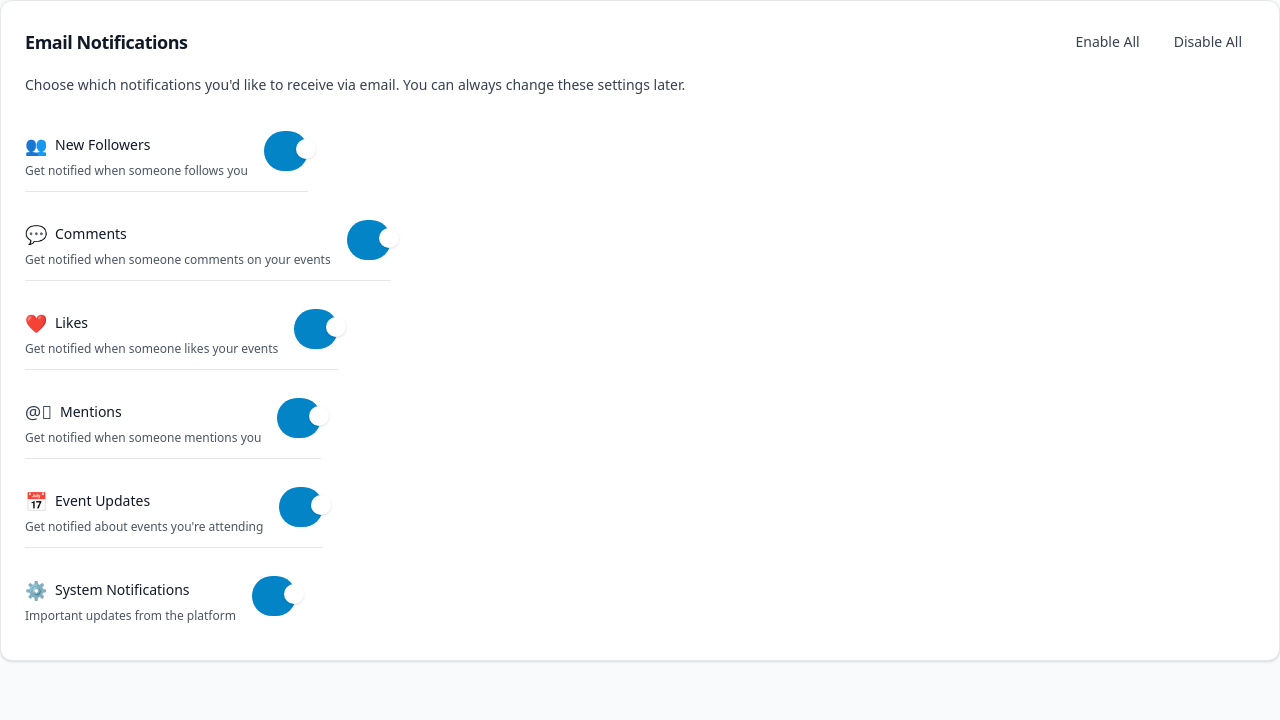
Test: NotificationSettings Component › Actions › should disable all notifications when Disable All clicked
This screenshot has width=1280, height=720.
Click the button "Disable All" at point(1208, 42), box [1161,25,1255,59]
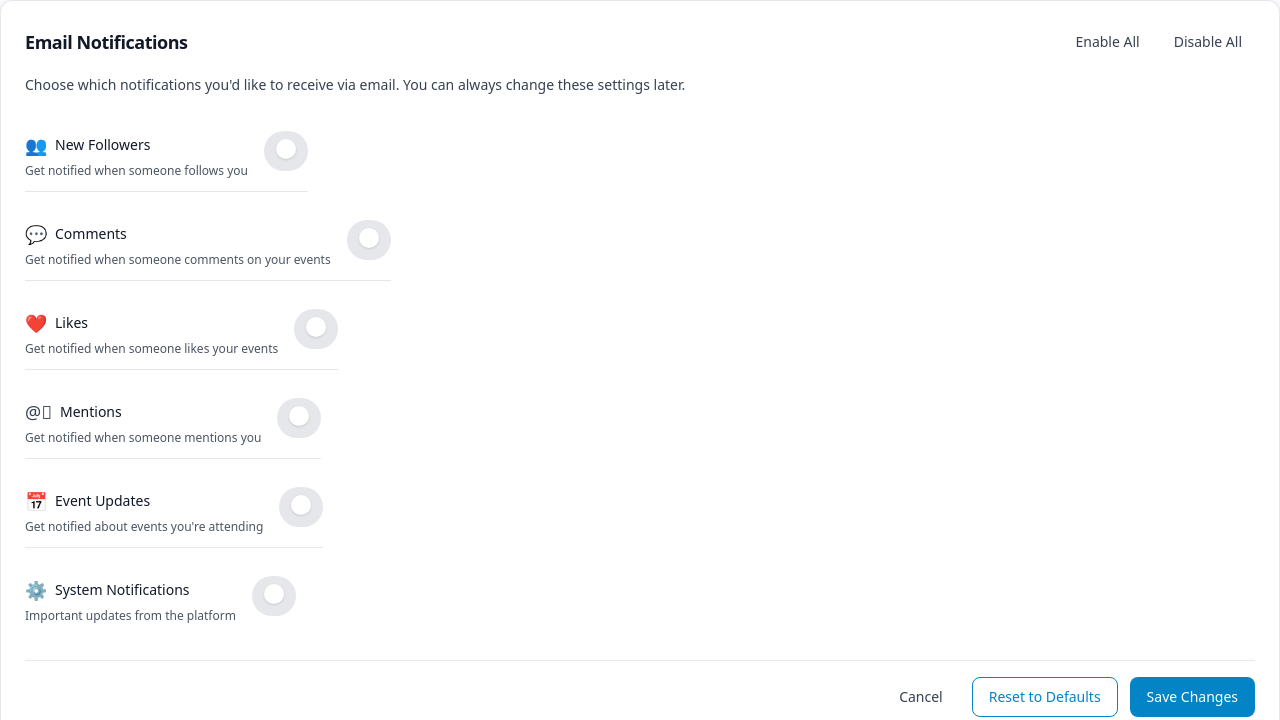
expect the button "Save Changes" is shown: met, box [1130,677,1255,717]
